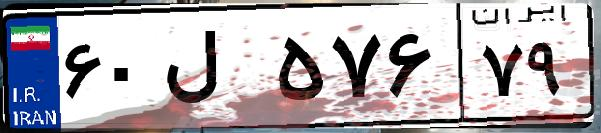0: (110, 28, 158, 98)
5: (270, 28, 330, 110)
6: (385, 28, 445, 110), (57, 26, 110, 100)
7: (330, 28, 385, 110), (475, 38, 525, 113)
9: (525, 38, 570, 115)
ل: (158, 20, 270, 120)
